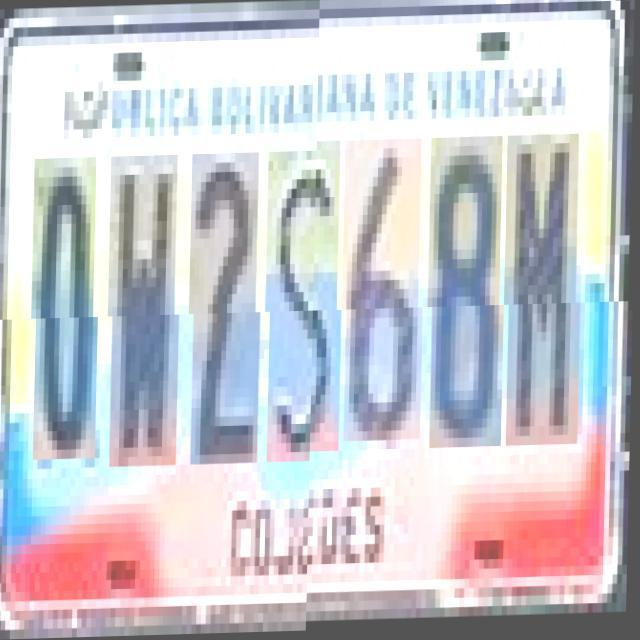2: (192, 154, 264, 466)
6: (345, 150, 427, 453)
8: (431, 148, 508, 460)
M: (508, 146, 584, 458)
O: (35, 158, 102, 460)
S: (269, 152, 346, 464)
W: (112, 156, 184, 468)
